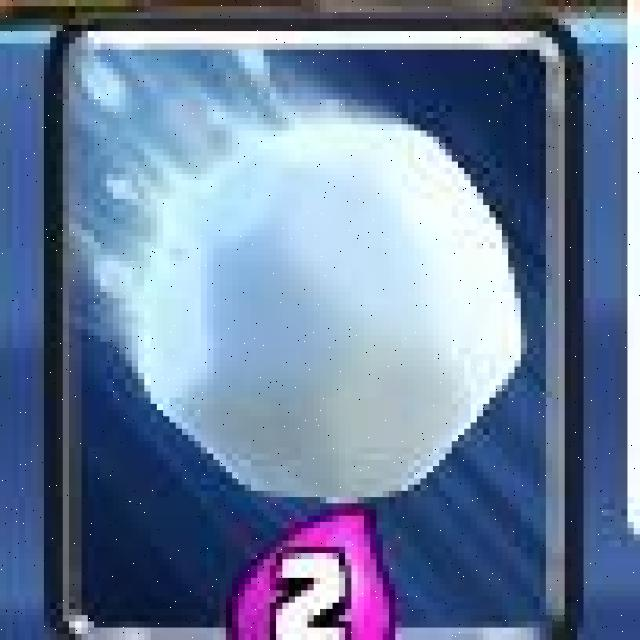Snowball: (43, 15, 582, 640)
